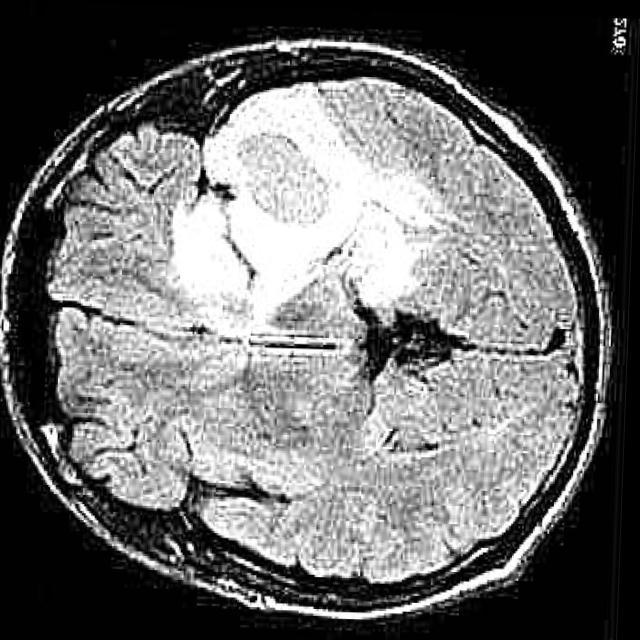Tumor: (179, 80, 436, 330)
